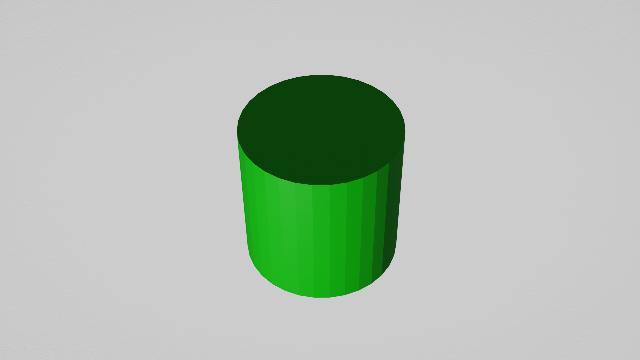Cylinder: (203, 62, 425, 314)
